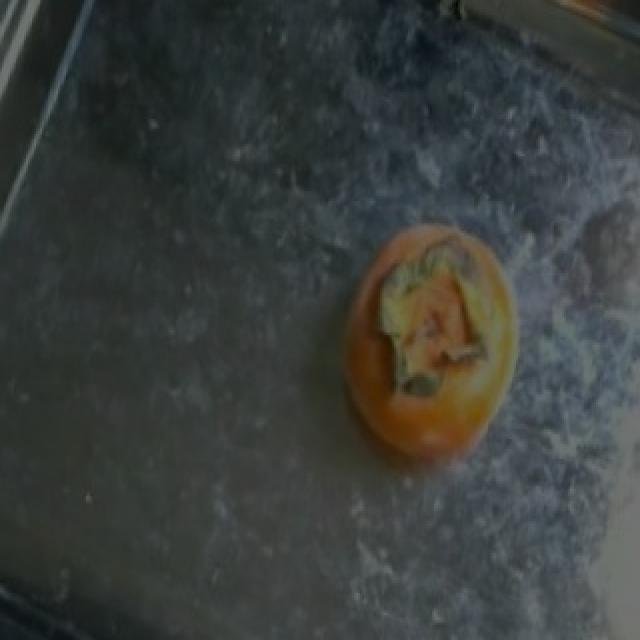Fruit: (314, 198, 540, 508)
